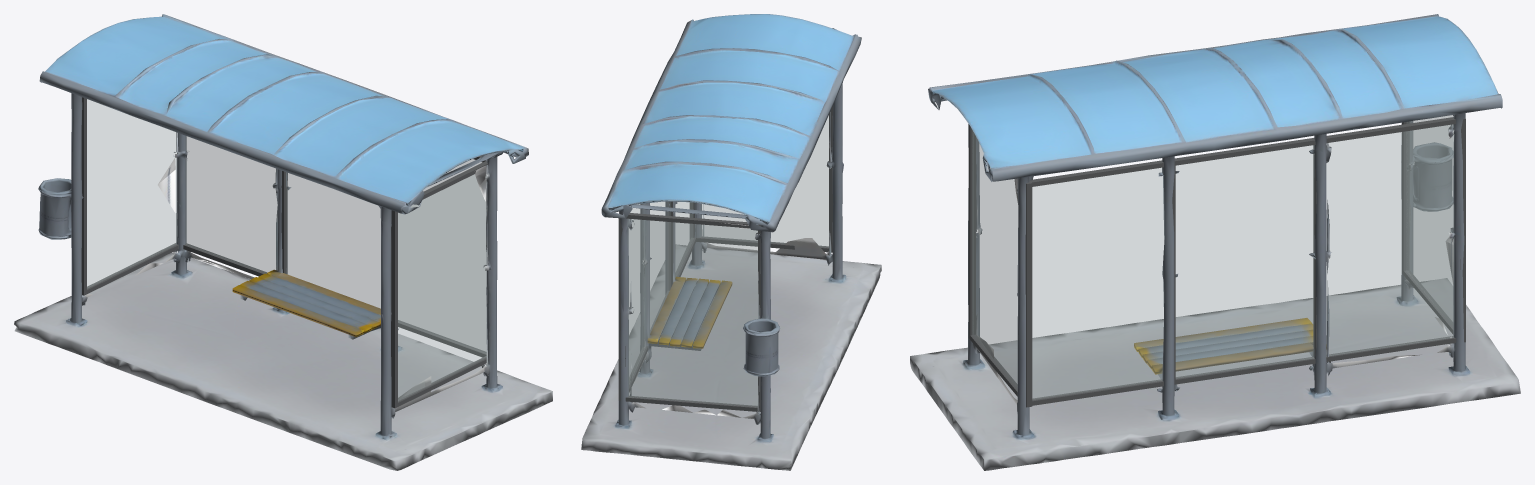
Rendered from stanica-staklo.glb.
The picture shows the model from 3 angles, left to right: view 1: azimuth 30°, elevation 25°; view 2: azimuth 150°, elevation 25°; view 3: azimuth 270°, elevation 25°; orthographic projection. The views are drawn at different scales.
Parts seen in each view (by area): view 1: stanica; view 2: stanica; view 3: stanica.
Boxes of the visible parts, bbox=[...] form: stanica: bbox=[14, 14, 552, 470]; stanica: bbox=[581, 14, 881, 470]; stanica: bbox=[910, 14, 1520, 470].
Bounding box in the file's own units: 0.6924 × 0.5433 × 0.9815.
Materials: 3 (1 with a texture image).
